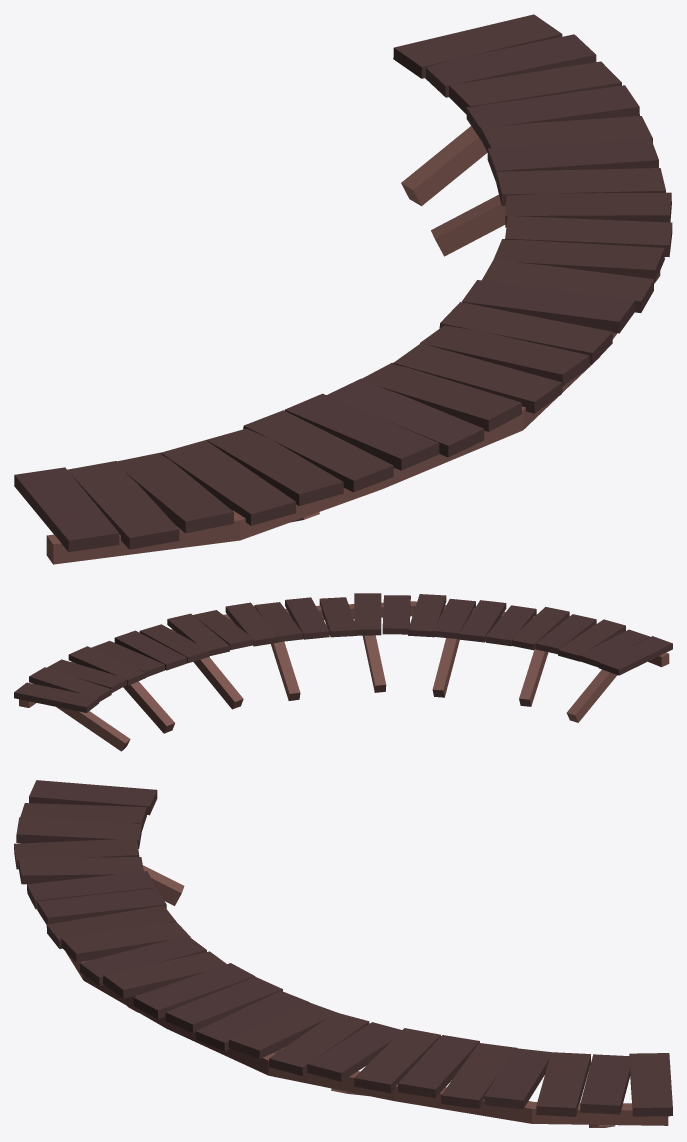
The model's file is DarkRoseWoodBuildingLargeSlightCurvePlatform1.fbx.
3 renders of one model, top to bottom at view 1: azimuth 30°, elevation 25°; view 2: azimuth 150°, elevation 25°; view 3: azimuth 270°, elevation 25°, orthographic. The views are drawn at different scales.
Parts seen in each view (by area): view 1: DarkRoseWoodBuildingLargeSlightCurvePlatform1; view 2: DarkRoseWoodBuildingLargeSlightCurvePlatform1; view 3: DarkRoseWoodBuildingLargeSlightCurvePlatform1.
Boxes of the visible parts, x1,y1,x2,y2 form: DarkRoseWoodBuildingLargeSlightCurvePlatform1: (14, 14, 672, 564); DarkRoseWoodBuildingLargeSlightCurvePlatform1: (14, 593, 672, 751); DarkRoseWoodBuildingLargeSlightCurvePlatform1: (14, 780, 672, 1127).
Bounding box in the file's own units: 1705 × 208 × 1447.
